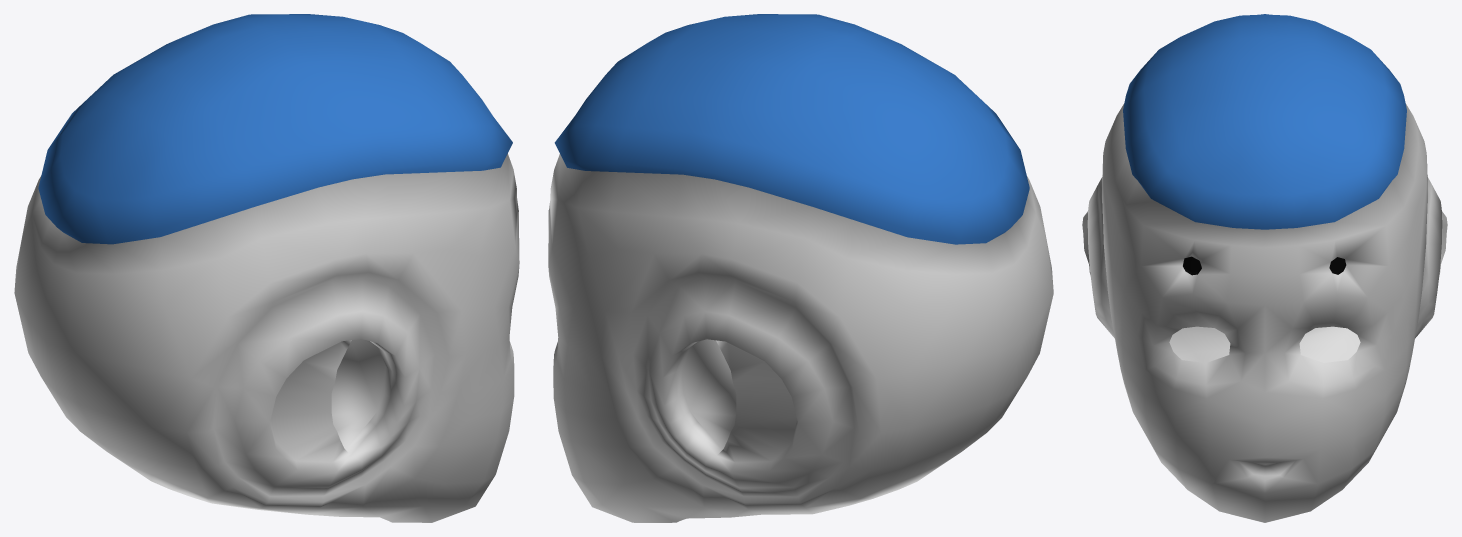
The model's file is HeadRoll.dae.
The picture shows the model from 3 angles, left to right: view 1: azimuth 30°, elevation 25°; view 2: azimuth 150°, elevation 25°; view 3: azimuth 270°, elevation 25°; orthographic projection. The views are drawn at different scales.
Visible parts, largest first — view 1: HeadRoll; view 2: HeadRoll; view 3: HeadRoll.
Boxes of the visible parts, x1,y1,x2,y2 form: HeadRoll: (14,14,519,522); HeadRoll: (548,14,1053,522); HeadRoll: (1082,14,1447,522).
Size of the model in its own units: 0.2203 by 0.1887 by 0.2395.
